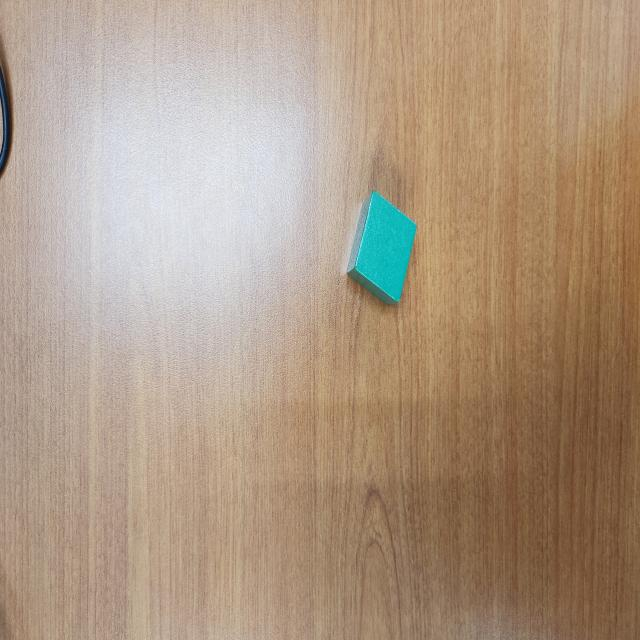green: (347, 190, 418, 306)
